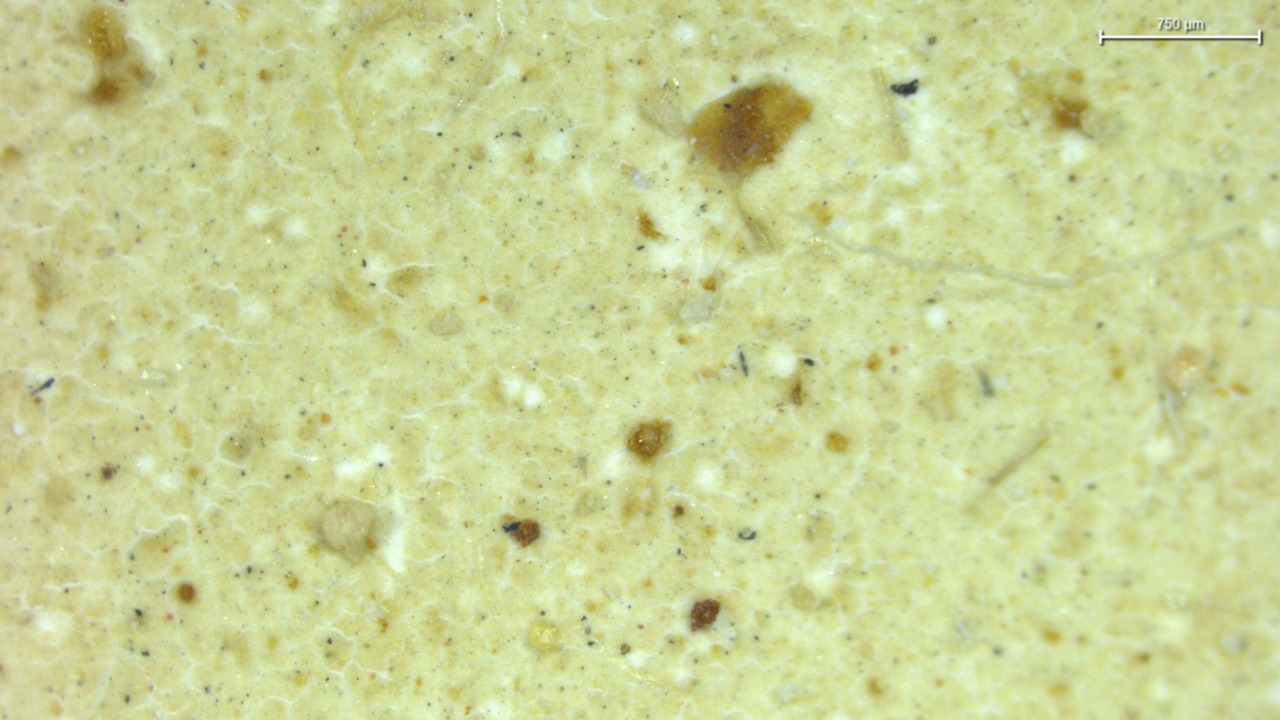microplastic_fragment: (320, 498, 377, 562)
